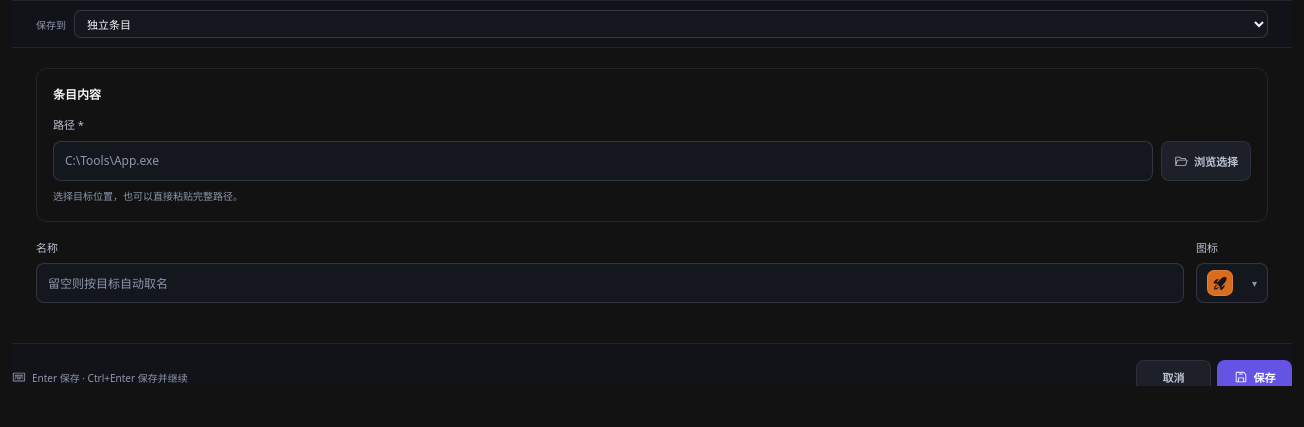
Scenario: ItemForm validation › a path › is refused when it is Work, with the way to write one
The image size is (1304, 427).
Type "Thing" into the field with test id "item-name-input" at (610, 283), box 36,263 -> 1184,303
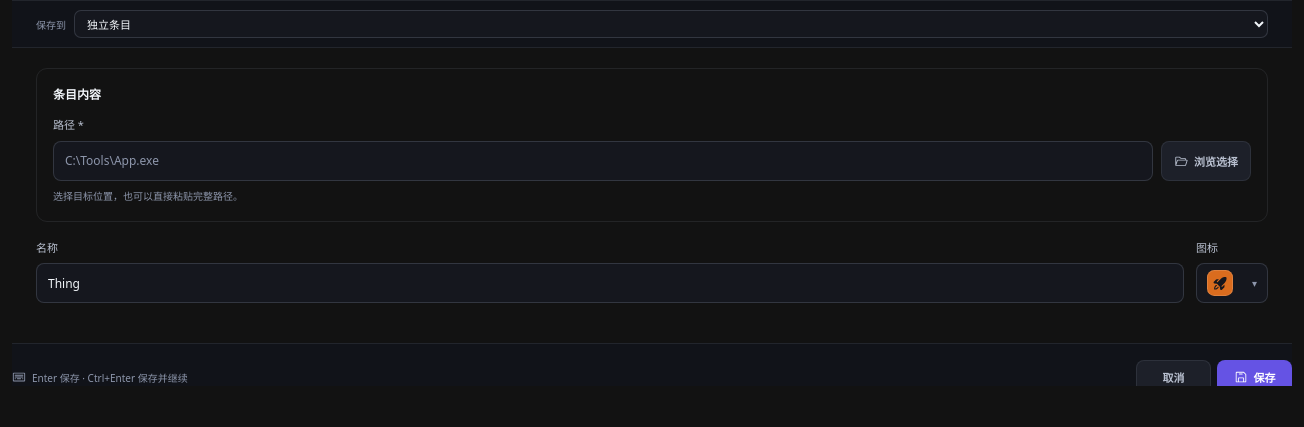
Type "Work" into the field with test id "item-path-input" at (603, 160), box 53,140 -> 1153,180
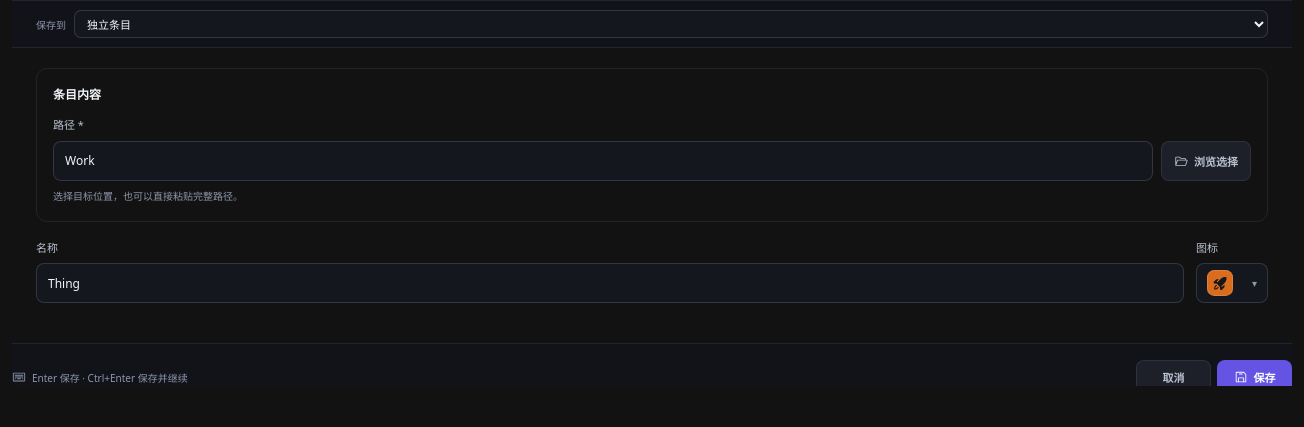
Click the button with test id "item-save" at (1254, 377), box 1217,360 -> 1292,394
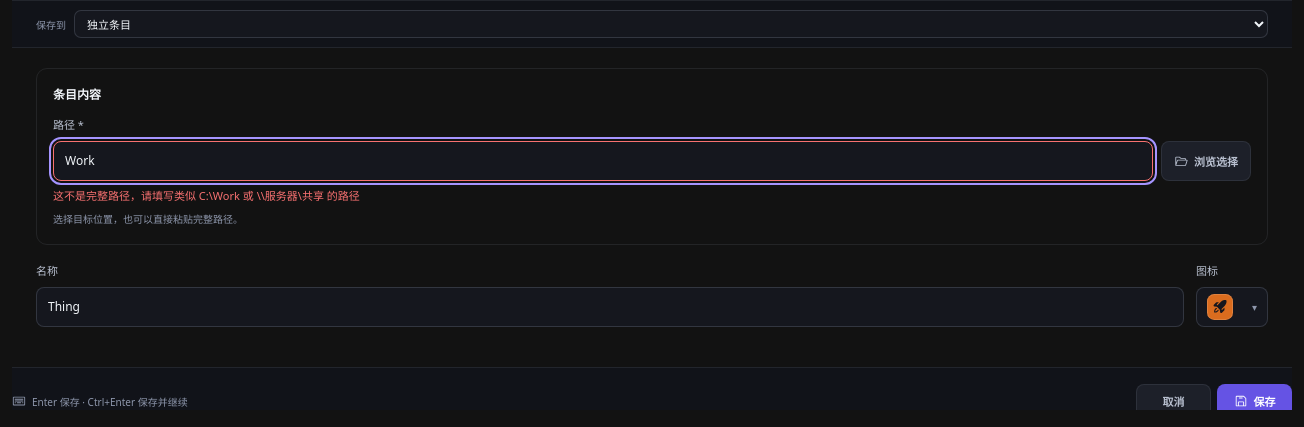
Now the message shows "完整路径", box 53,188 -> 360,202
